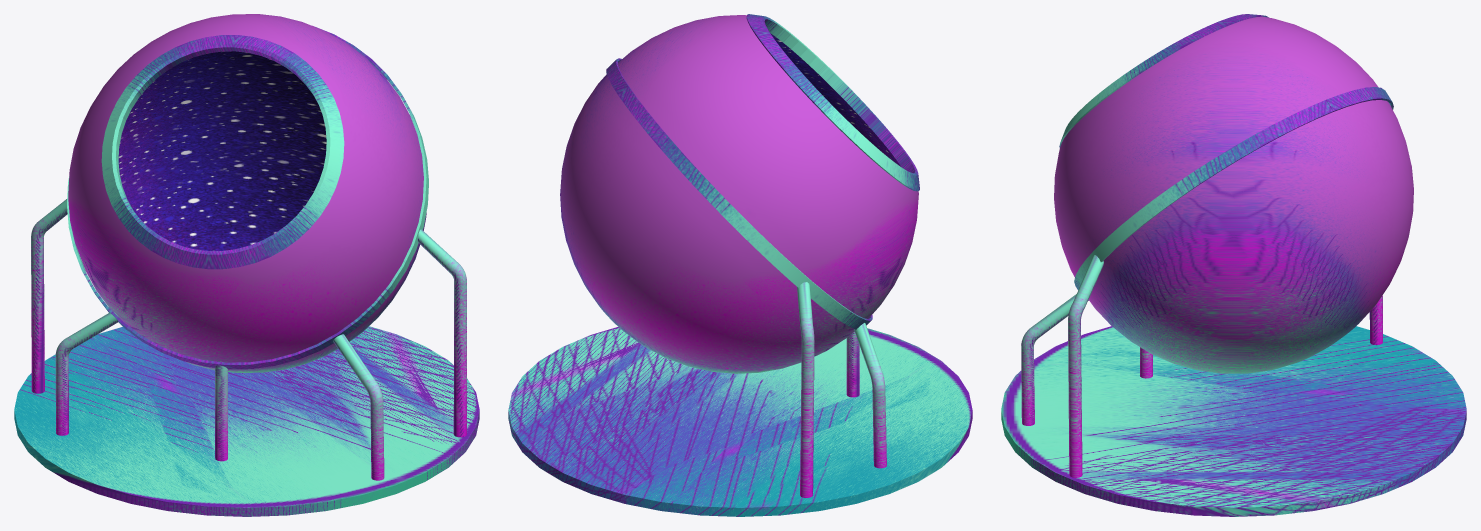
The model's file is TANK.obj.
3 views of the same model, side by side, from view 1: azimuth 30°, elevation 25°; view 2: azimuth 150°, elevation 25°; view 3: azimuth 270°, elevation 25° (orthographic).
Visible parts, largest first — view 1: TANK; view 2: TANK; view 3: TANK.
Boxes of the visible parts, x1,y1,x2,y2 form: TANK: (14,14,479,516); TANK: (508,14,972,516); TANK: (1001,14,1466,516).
Size of the model in its own units: 79.5 by 73.21 by 79.5.
Materials: 1 (1 with a texture image).
